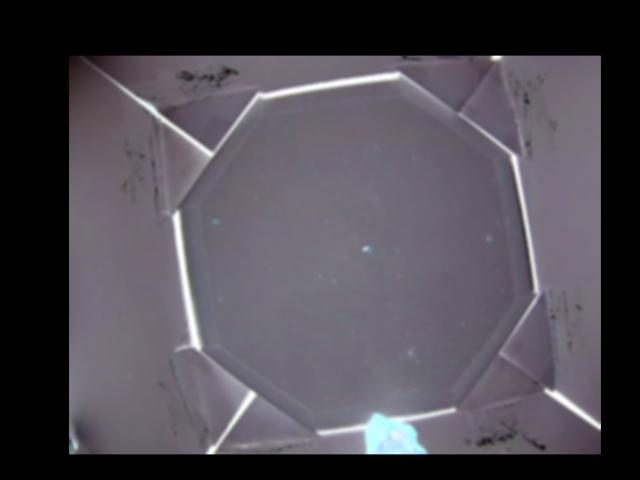Brisk: (364, 412, 430, 454)
